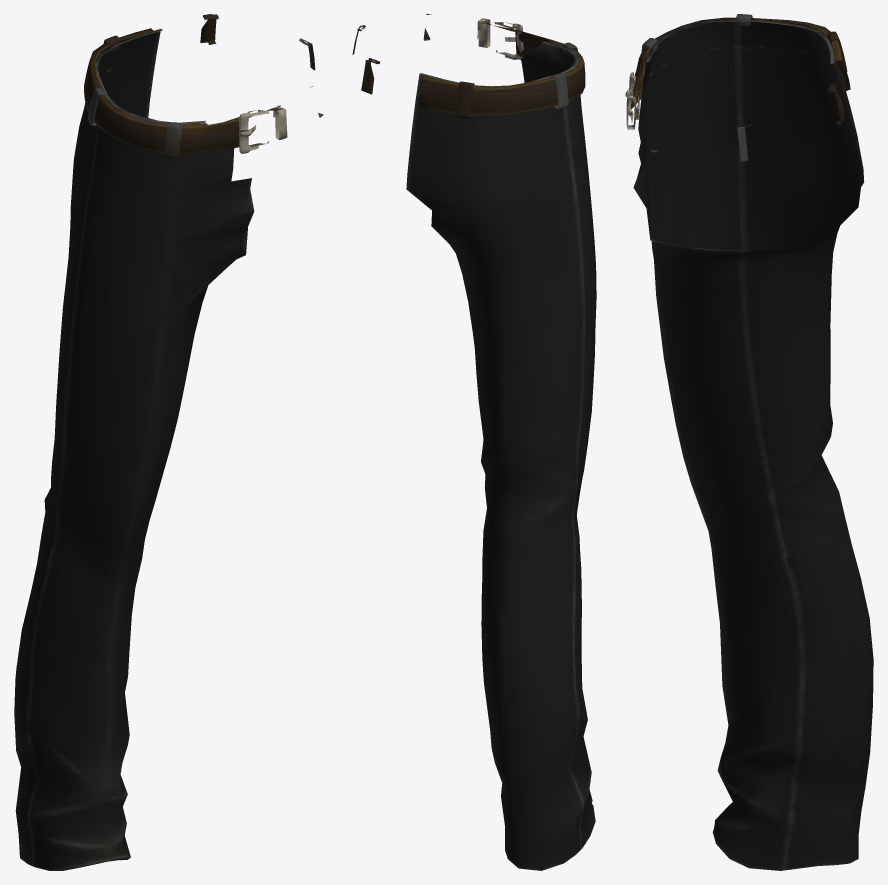
File: profesor__piernaderglb.glb
3 renders of one model, left to right at view 1: azimuth 30°, elevation 25°; view 2: azimuth 150°, elevation 25°; view 3: azimuth 270°, elevation 25°, orthographic. The views are drawn at different scales.
Parts seen in each view (by area): view 1: Object_25.001; view 2: Object_25.001; view 3: Object_25.001.
Part boxes in pixels (<box>): Object_25.001: <box>14,14,323,870</box>; Object_25.001: <box>352,14,596,870</box>; Object_25.001: <box>625,14,873,870</box>.
Bounding box in the file's own units: 0.0986 × 0.2857 × 0.0746.
1 material, 1 textured.
